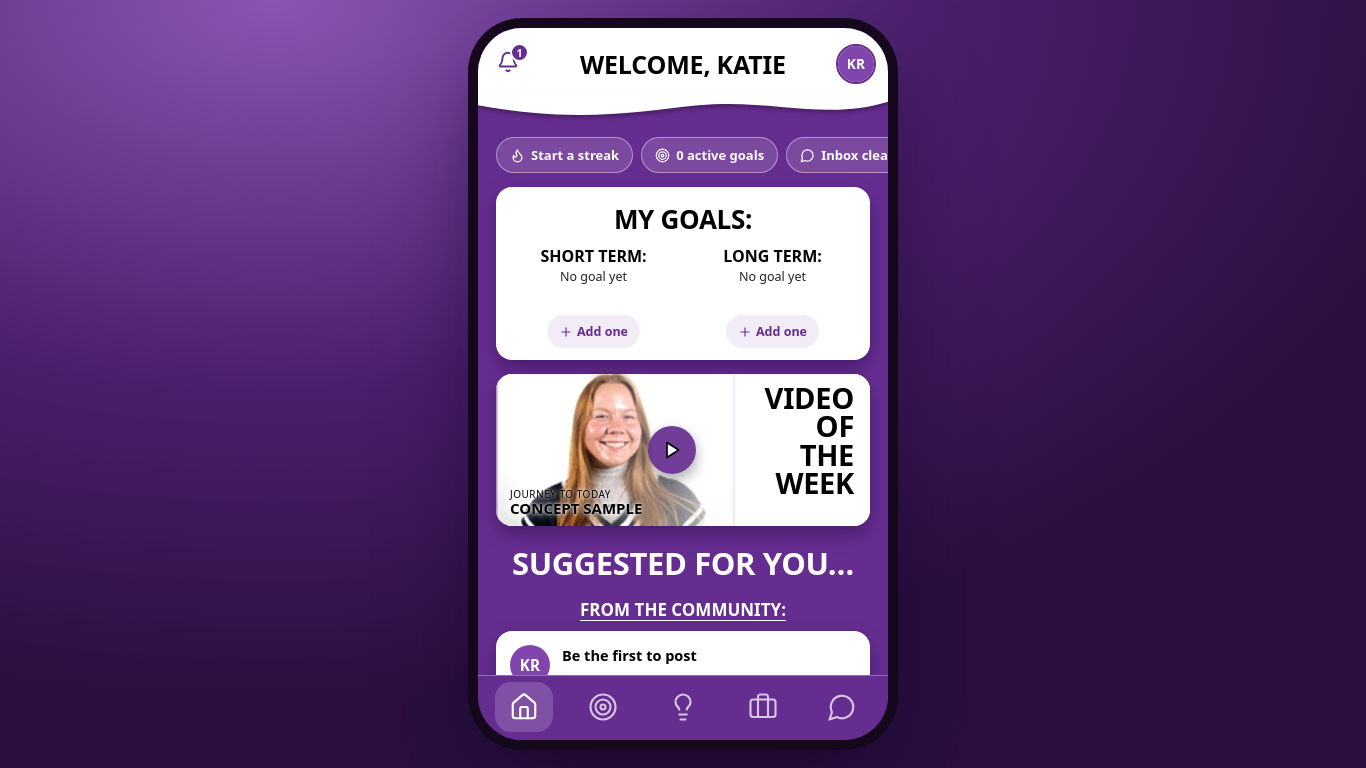
tips and notifications › opens a notification's target and marks it read
Check: the heading "Welcome, Katie" is shown, box [580,47,786,81]
Click the button named "Notifications".
click(508, 62)  # box [486,40,530,84]
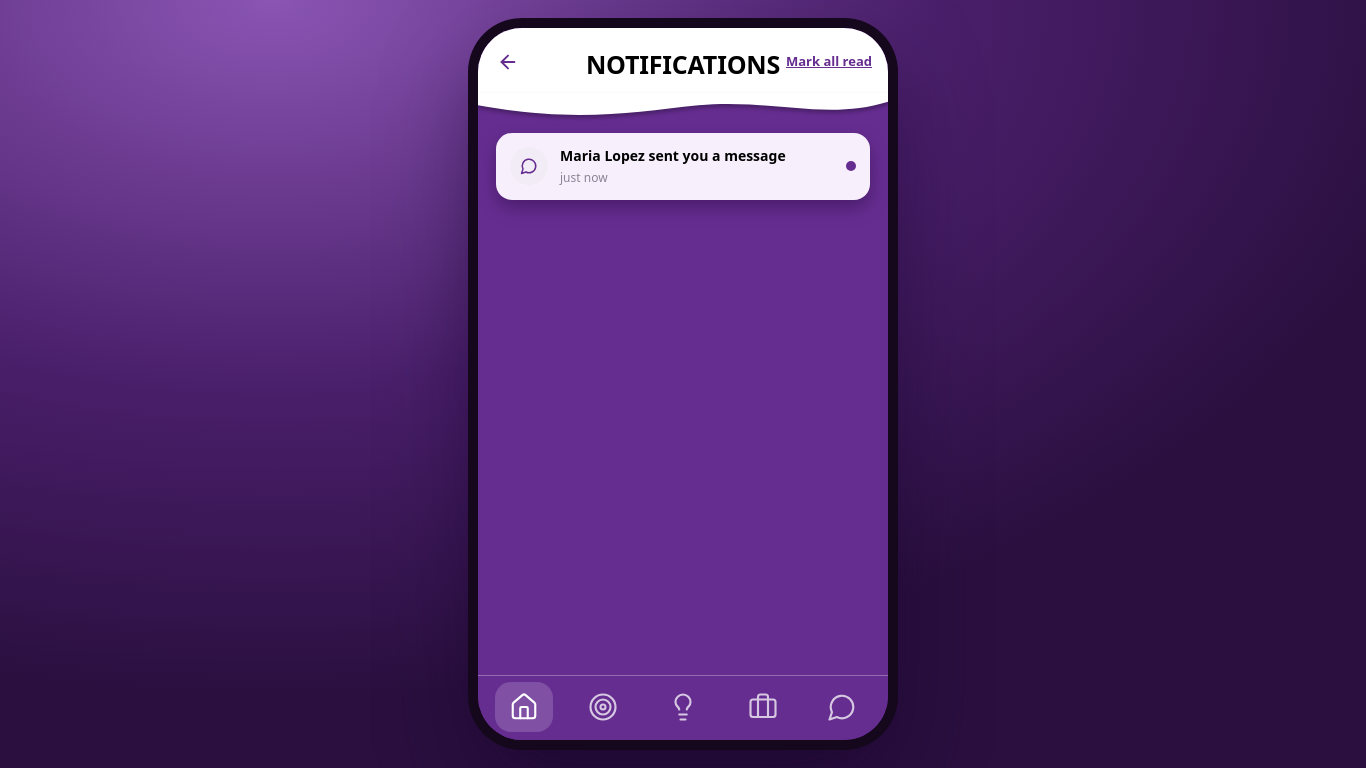
Click the text "Maria Lopez sent you a message".
click(673, 156)  # box [560,146,786,165]
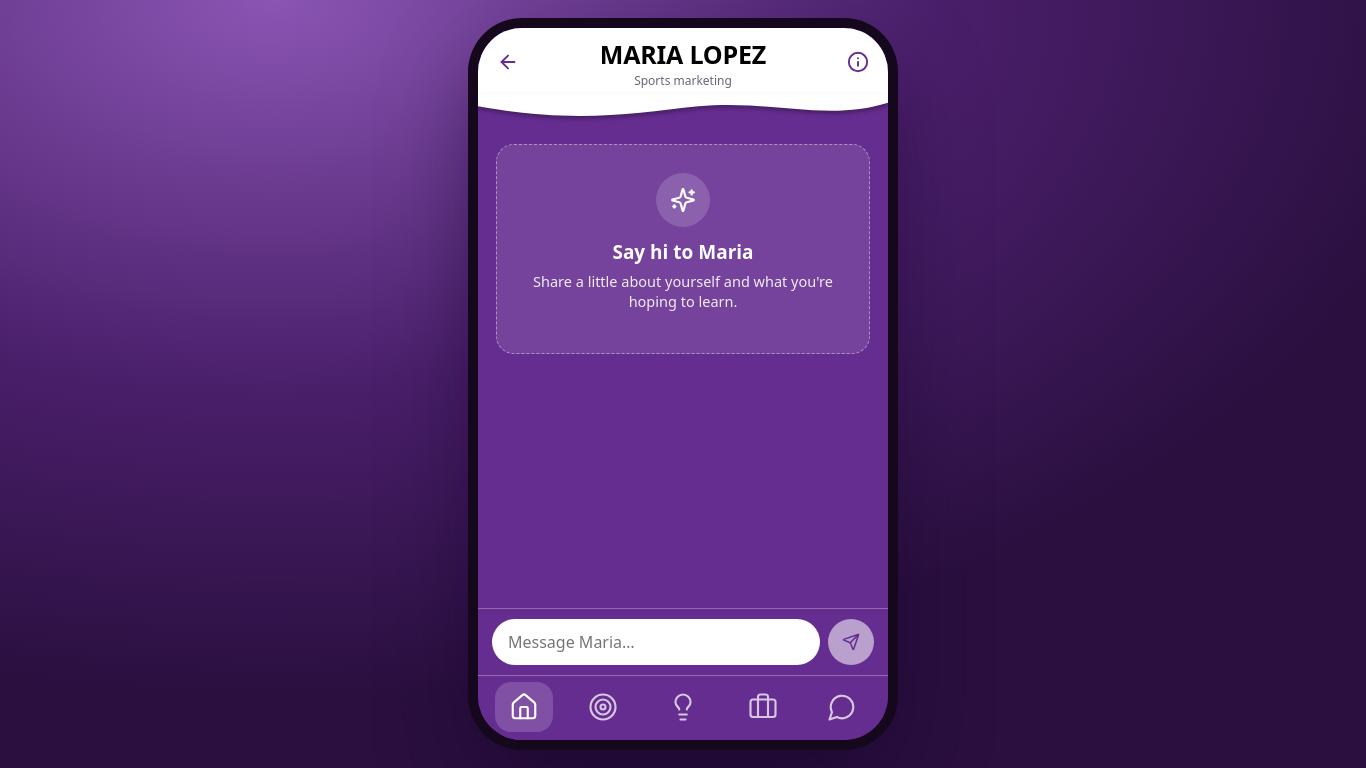
Check: the heading "Maria Lopez" is shown, box [600,37,766,71]
